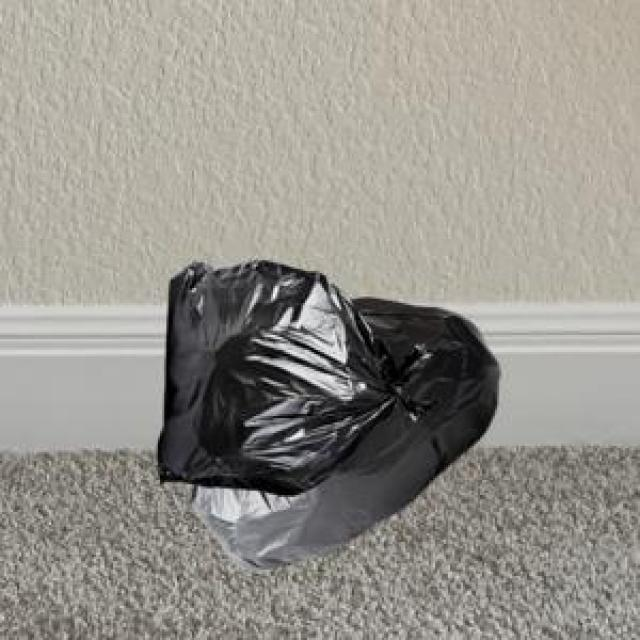Vinyl: (160, 261, 499, 568)
